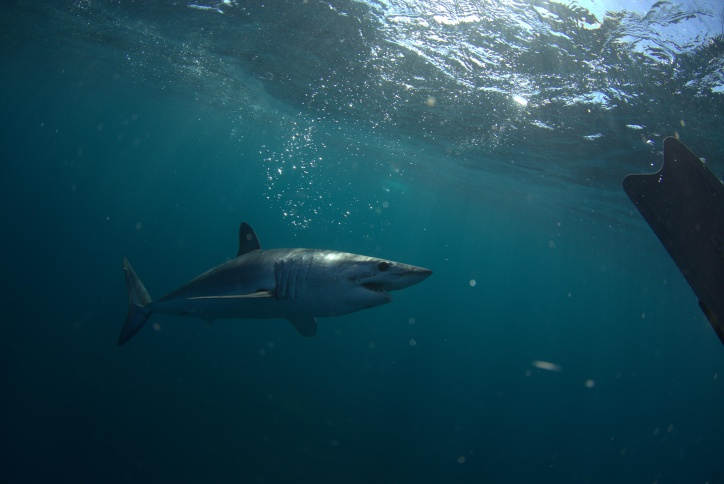Mako: (96, 218, 445, 354)
